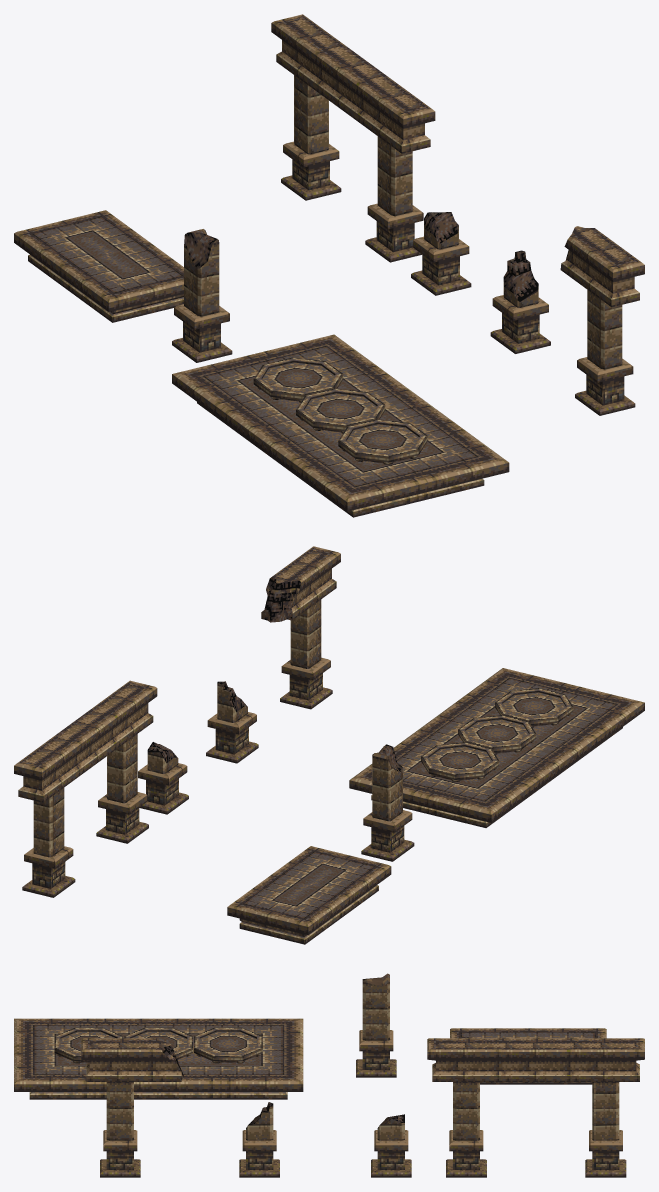
Rendered from EnvMdrMD_Ruins_A_Altar_A.FBX.
3 views of the same model, one above another, from view 1: azimuth 30°, elevation 25°; view 2: azimuth 150°, elevation 25°; view 3: azimuth 270°, elevation 25° (orthographic). The views are drawn at different scales.
Parts seen in each view (by area): view 1: EnvMdrMD_Ruins_A_Altar_B, EnvMdrMD_Ruins_A_Arch_A, EnvMdrMD_Ruins_A_Arch_B, EnvMdrMD_Ruins_A_Altar_A, EnvMdrMD_Ruins_A_Arch_Pillar_A, EnvMdrMD_Ruins_A_Arch_Pillar_B; view 2: EnvMdrMD_Ruins_A_Altar_B, EnvMdrMD_Ruins_A_Arch_A, EnvMdrMD_Ruins_A_Arch_B, EnvMdrMD_Ruins_A_Altar_A, EnvMdrMD_Ruins_A_Arch_Pillar_A, EnvMdrMD_Ruins_A_Arch_Pillar_B; view 3: EnvMdrMD_Ruins_A_Altar_B, EnvMdrMD_Ruins_A_Arch_A, EnvMdrMD_Ruins_A_Arch_B, EnvMdrMD_Ruins_A_Arch_Pillar_A, EnvMdrMD_Ruins_A_Arch_Pillar_B, EnvMdrMD_Ruins_A_Altar_A.
Part boxes in pixels (x1,y1,x2,y2): EnvMdrMD_Ruins_A_Altar_B: (172, 334, 509, 517); EnvMdrMD_Ruins_A_Arch_A: (271, 14, 435, 262); EnvMdrMD_Ruins_A_Arch_B: (490, 226, 644, 415); EnvMdrMD_Ruins_A_Altar_A: (14, 210, 183, 322); EnvMdrMD_Ruins_A_Arch_Pillar_A: (172, 229, 232, 362); EnvMdrMD_Ruins_A_Arch_Pillar_B: (411, 212, 471, 295); EnvMdrMD_Ruins_A_Altar_B: (349, 668, 644, 827); EnvMdrMD_Ruins_A_Arch_A: (14, 680, 157, 897); EnvMdrMD_Ruins_A_Arch_B: (206, 546, 340, 763); EnvMdrMD_Ruins_A_Altar_A: (227, 846, 391, 944); EnvMdrMD_Ruins_A_Arch_Pillar_A: (361, 744, 414, 861); EnvMdrMD_Ruins_A_Arch_Pillar_B: (138, 742, 188, 814); EnvMdrMD_Ruins_A_Altar_B: (14, 1018, 303, 1099); EnvMdrMD_Ruins_A_Arch_A: (427, 1038, 644, 1177); EnvMdrMD_Ruins_A_Arch_B: (81, 1038, 279, 1177); EnvMdrMD_Ruins_A_Arch_Pillar_A: (356, 973, 396, 1077); EnvMdrMD_Ruins_A_Arch_Pillar_B: (371, 1114, 411, 1177); EnvMdrMD_Ruins_A_Altar_A: (450, 1028, 606, 1084).
Size of the model in its own units: 954 by 410 by 1856.
Materials: 3 (3 with a texture image).
